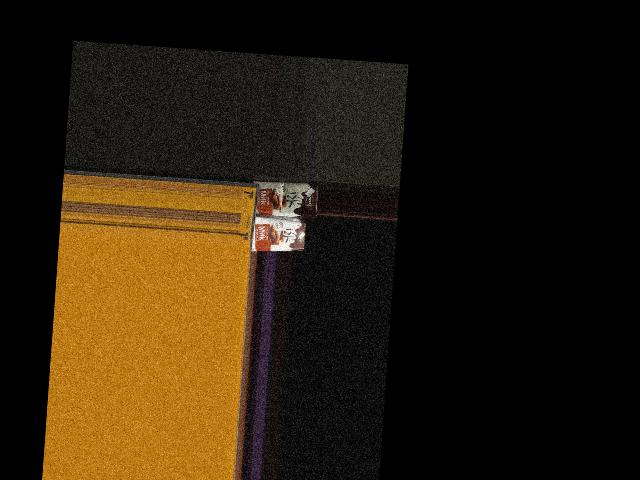chocolate: (244, 216, 307, 257)
